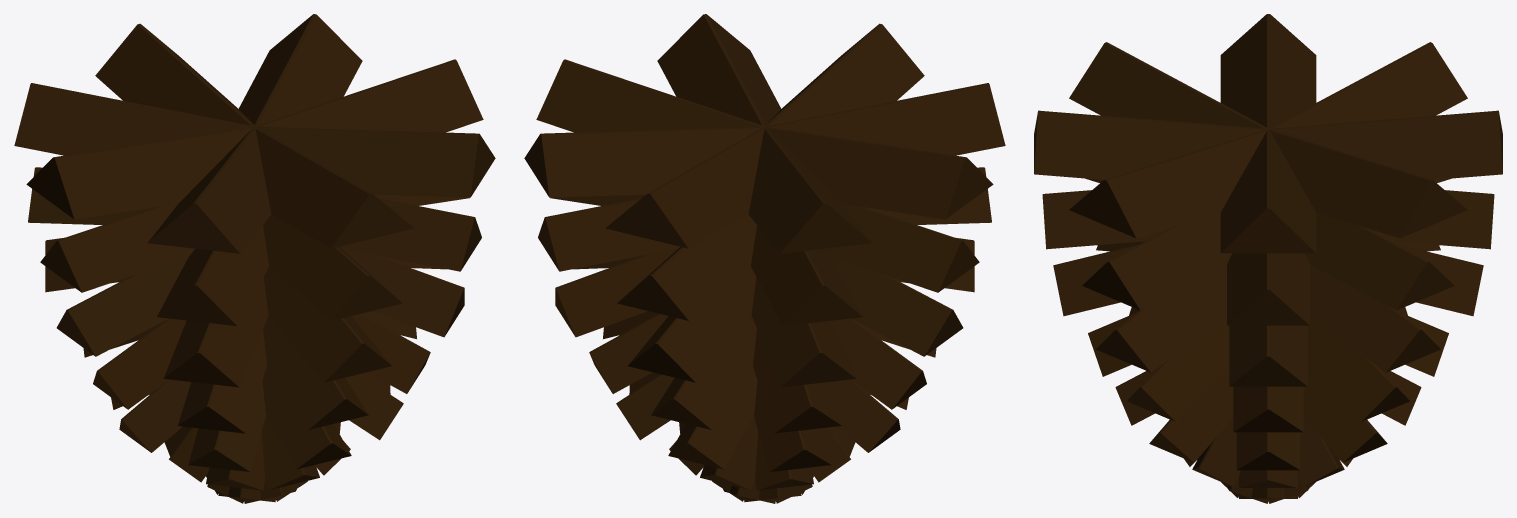
The model's file is pincn.FBX.
The picture shows the model from 3 angles, left to right: view 1: azimuth 30°, elevation 25°; view 2: azimuth 150°, elevation 25°; view 3: azimuth 270°, elevation 25°; orthographic projection.
Visible parts, largest first — view 1: Box006, Box041, Box034, Box027, Box013, Box055, Box048, Box022, Box020, Box001, Box023, Box050 (+19 smaller); view 2: Box006, Box048, Box055, Box020, Box013, Box034, Box041, Box015, Box027, Box001, Box016, Box029 (+19 smaller); view 3: Box041, Box048, Box020, Box027, Box013, Box006, Box034, Box055, Box036, Box043, Box037, Box044 (+19 smaller).
Part boxes in pixels (x1,y1,x2,y2): Box006: [26, 127, 254, 219]; Box041: [256, 126, 495, 197]; Box034: [14, 83, 254, 155]; Box027: [255, 127, 414, 248]; Box013: [255, 59, 483, 132]; Box055: [147, 127, 271, 253]; Box048: [238, 14, 362, 126]; Box022: [263, 214, 402, 320]; Box020: [95, 23, 254, 126]; Box001: [40, 204, 194, 292]; Box023: [263, 266, 391, 382]; Box050: [157, 225, 268, 326]; Box006: [765, 127, 993, 219]; Box048: [524, 126, 763, 197]; Box055: [765, 83, 1005, 155]; Box020: [605, 127, 764, 248]; Box013: [536, 59, 764, 132]; Box034: [748, 127, 872, 253]; Box041: [657, 14, 781, 126]; Box015: [617, 214, 756, 320]; Box027: [765, 23, 924, 126]; Box001: [825, 204, 979, 292]; Box016: [628, 266, 756, 382]; Box029: [751, 225, 862, 326]; Box041: [1069, 129, 1267, 238]; Box048: [1269, 129, 1467, 238]; Box020: [1269, 110, 1502, 179]; Box027: [1034, 110, 1267, 179]; Box013: [1220, 130, 1316, 253]; Box006: [1220, 14, 1316, 129]; Box034: [1269, 42, 1467, 129]; Box055: [1069, 42, 1267, 129]; Box036: [1082, 212, 1231, 310]; Box043: [1305, 212, 1454, 310]; Box037: [1096, 264, 1226, 372]; Box044: [1310, 264, 1440, 372].
Size of the model in its own units: 63.85 by 56.29 by 63.85.
